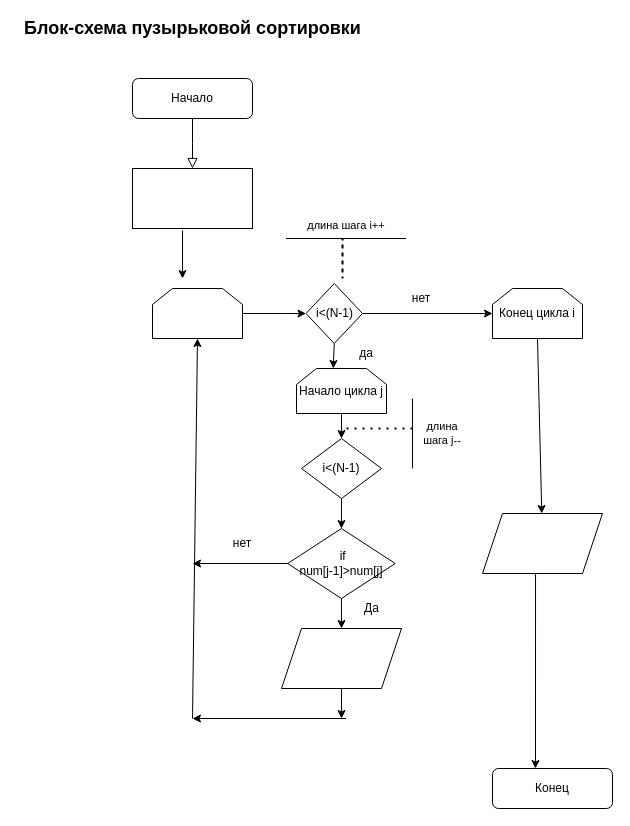
Some shapes in this 630 by 826 pixel diagram are drawn without their labels. Each missing label, with the box of its shape:
меняем местами num[j-1] и num[j]: (280, 628, 402, 688)
Начало цикла i: (152, 288, 242, 338)
Получаем отсортированный цикл: (482, 512, 602, 574)
Создание массива a[] чисел длиной N; i=0; переменные int num;: (132, 168, 252, 228)
